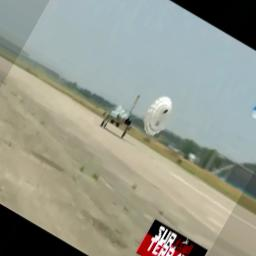Airplane: (97, 100, 142, 140)
